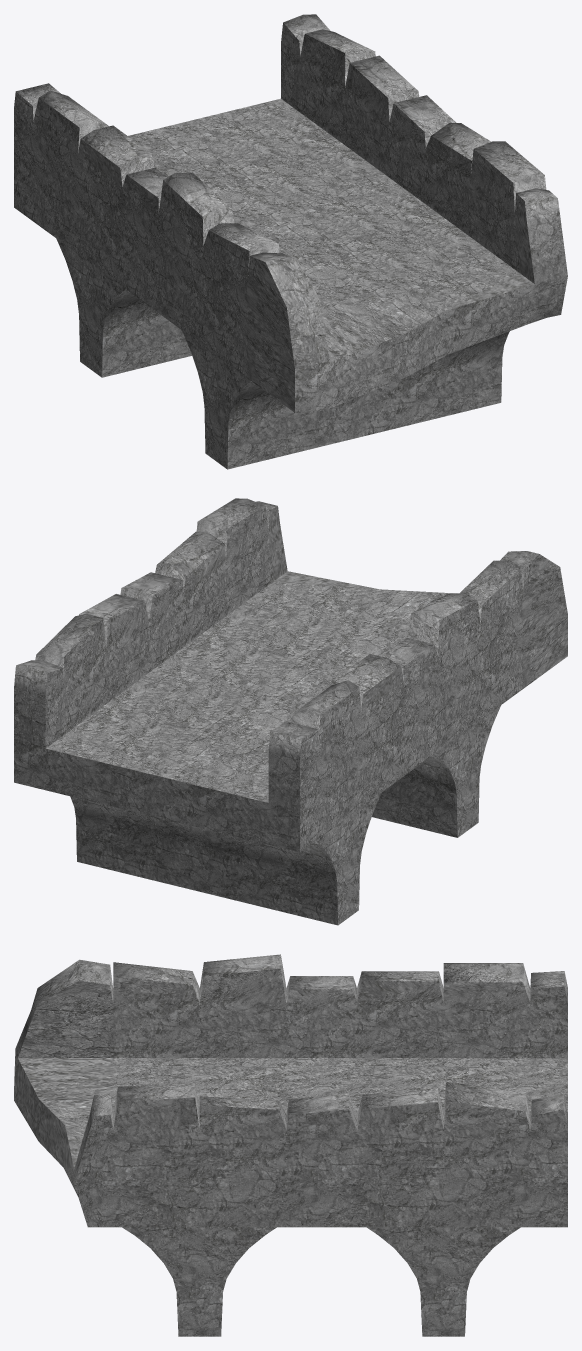
The model's file is materials_3_bridge_3.fbx.
The picture shows the model from 3 angles, top to bottom: view 1: azimuth 30°, elevation 25°; view 2: azimuth 150°, elevation 25°; view 3: azimuth 270°, elevation 25°; orthographic projection. The views are drawn at different scales.
Visible parts, largest first — view 1: materials_3_bridge_3; view 2: materials_3_bridge_3; view 3: materials_3_bridge_3.
Part boxes in pixels (x1,y1,x2,y2): materials_3_bridge_3: [14, 14, 567, 469]; materials_3_bridge_3: [14, 498, 567, 925]; materials_3_bridge_3: [14, 954, 567, 1336].
Bounding box in the file's own units: 300 × 246 × 493.
